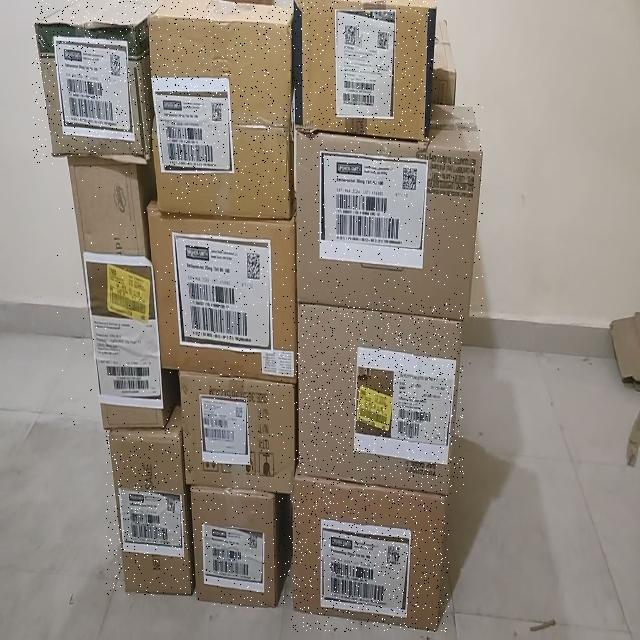BoxFace: (293, 102, 483, 321), (296, 302, 464, 494), (148, 1, 294, 219), (55, 156, 165, 431), (146, 199, 297, 381), (292, 464, 449, 632), (32, 0, 161, 165), (293, 0, 437, 140), (106, 406, 194, 596), (178, 369, 296, 493), (189, 484, 293, 608)
